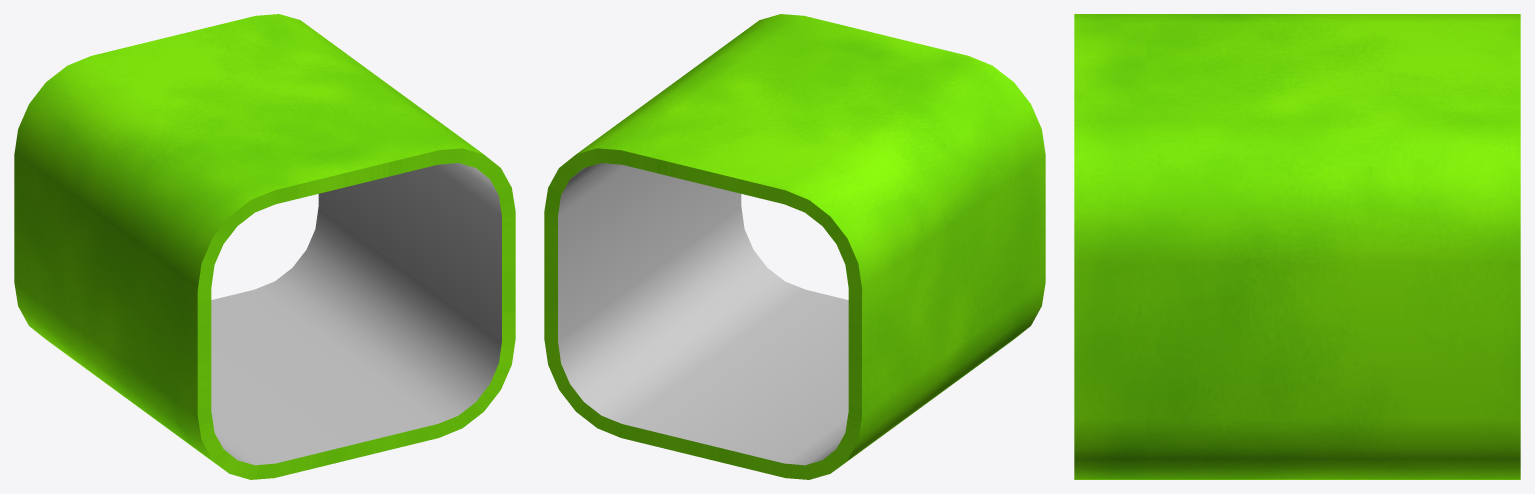
The model's file is chair_3_l.fbx.
3 views of the same model, side by side, from view 1: azimuth 30°, elevation 25°; view 2: azimuth 150°, elevation 25°; view 3: azimuth 270°, elevation 25° (orthographic). The views are drawn at different scales.
Visible parts, largest first — view 1: chair_3_l; view 2: chair_3_l; view 3: chair_3_l.
Part boxes in pixels (left/top/right/bottom): chair_3_l: left=14, top=14, right=515, bottom=479; chair_3_l: left=544, top=14, right=1045, bottom=479; chair_3_l: left=1074, top=14, right=1520, bottom=479.
Bounding box in the file's own units: 0.6961 × 0.6023 × 0.6961.
